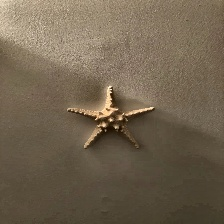starfish: (66, 85, 155, 149)
